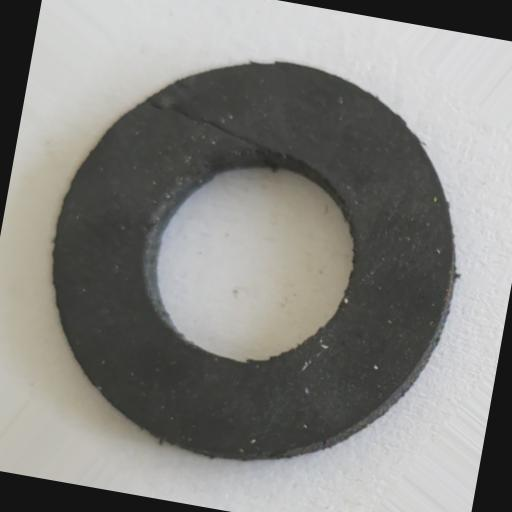defect: (142, 96, 316, 170)
